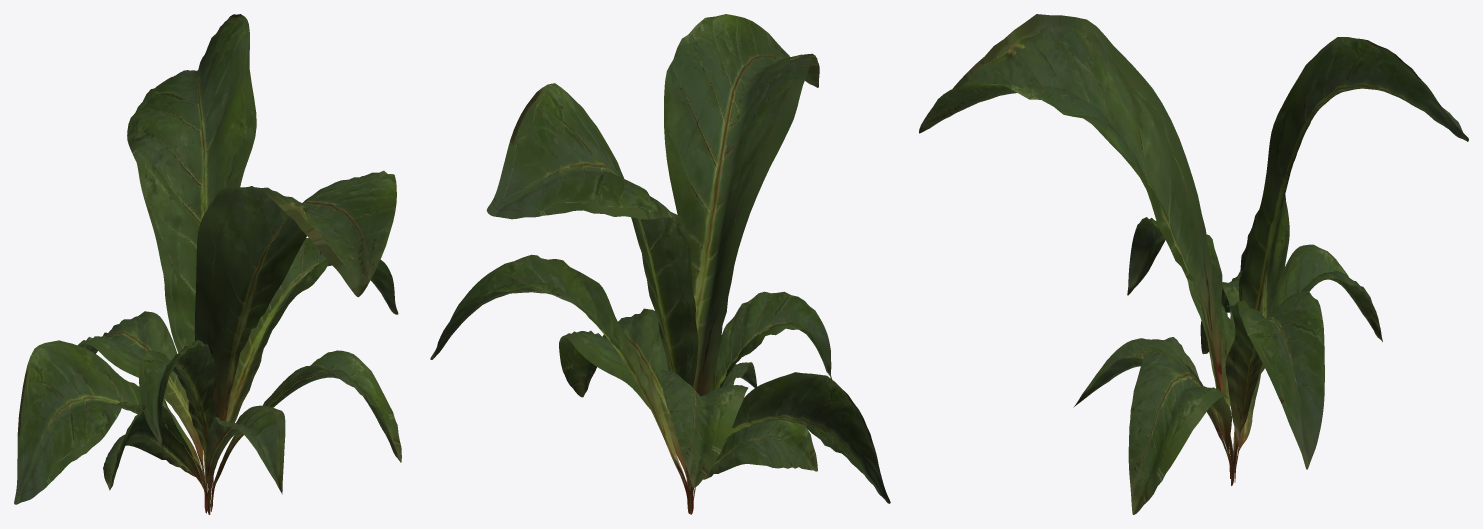
File: anthurium_botany_01.glb
The picture shows the model from 3 angles, left to right: view 1: azimuth 30°, elevation 25°; view 2: azimuth 150°, elevation 25°; view 3: azimuth 270°, elevation 25°; orthographic projection. The views are drawn at different scales.
Visible parts, largest first — view 1: anthurium_botany_01_a; view 2: anthurium_botany_01_a; view 3: anthurium_botany_01_a.
Part boxes in pixels (x1,y1,x2,y2): anthurium_botany_01_a: (14, 14, 401, 514); anthurium_botany_01_a: (430, 14, 890, 514); anthurium_botany_01_a: (919, 14, 1468, 514).
Size of the model in its own units: 2 by 2 by 2.
Materials: 1 (1 with a texture image).
